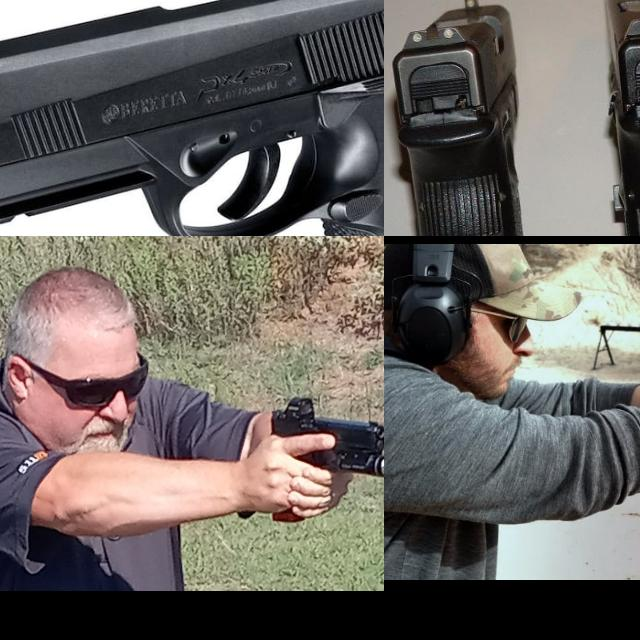handgun: (0, 0, 384, 236), (390, 0, 534, 236), (270, 394, 384, 462)
